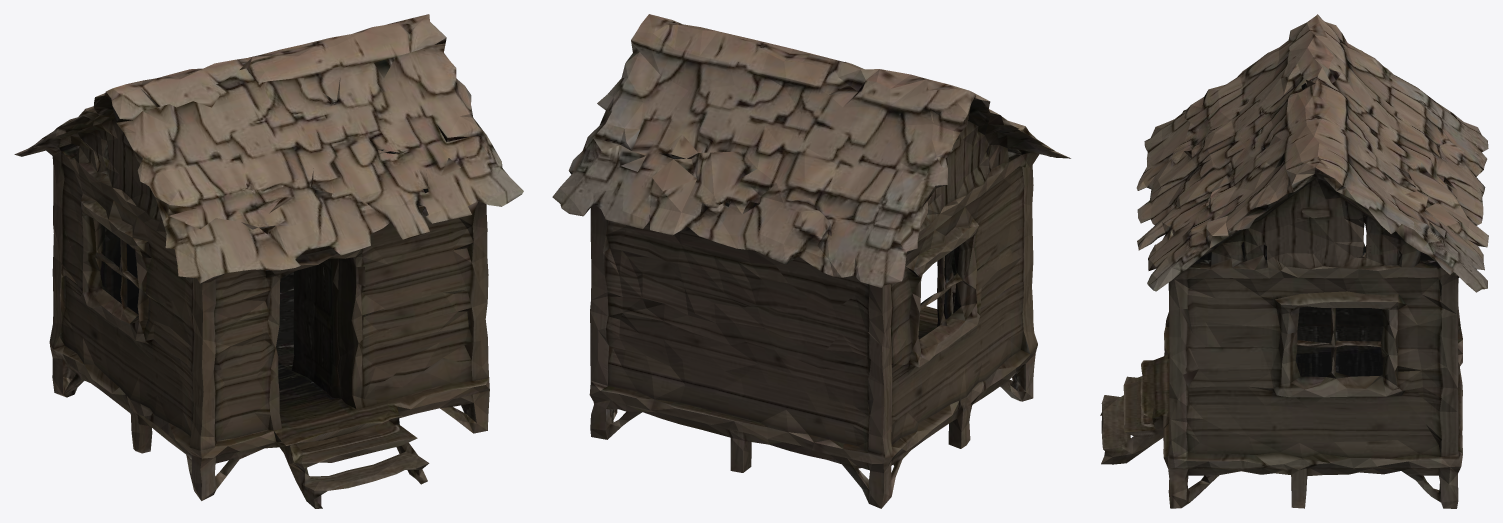
Rendered from stilt_house.glb.
3 renders of one model, left to right at view 1: azimuth 30°, elevation 25°; view 2: azimuth 150°, elevation 25°; view 3: azimuth 270°, elevation 25°, orthographic. The views are drawn at different scales.
Parts seen in each view (by area): view 1: m; view 2: m; view 3: m.
Boxes of the visible parts, <box> form: m: <box>14,14,523,508</box>; m: <box>552,14,1070,508</box>; m: <box>1100,14,1488,508</box>.
Size of the model in its own units: 5.97 by 6 by 5.96.
1 material, 1 textured.
